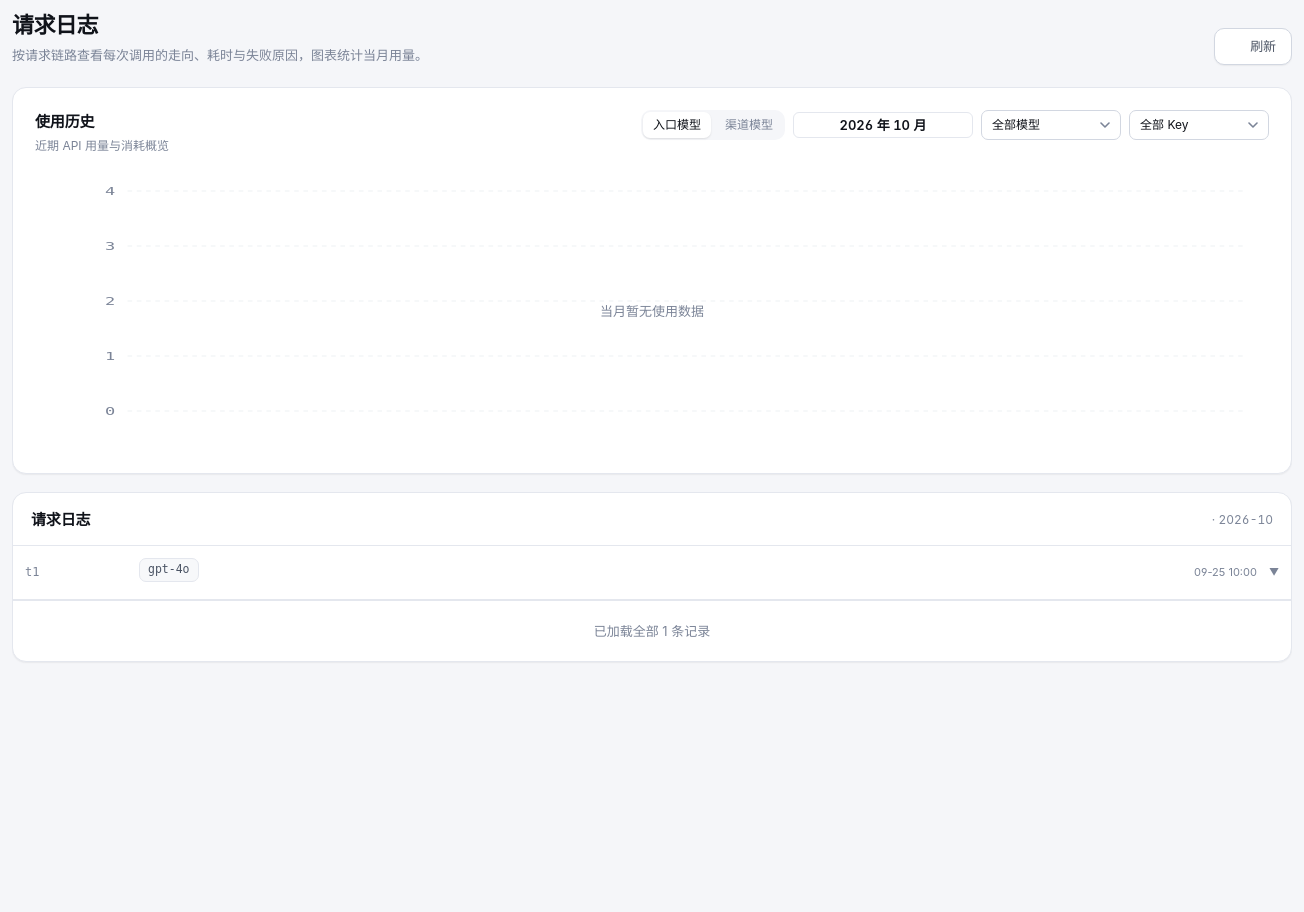
Test: 请求日志页 - 性能重构回归 › 粘性命中的成员在日志行显示「粘性」徽章，未标记的行不显示
Click the element with class "log-trace" at (652, 573), box [13,546,1291,600]
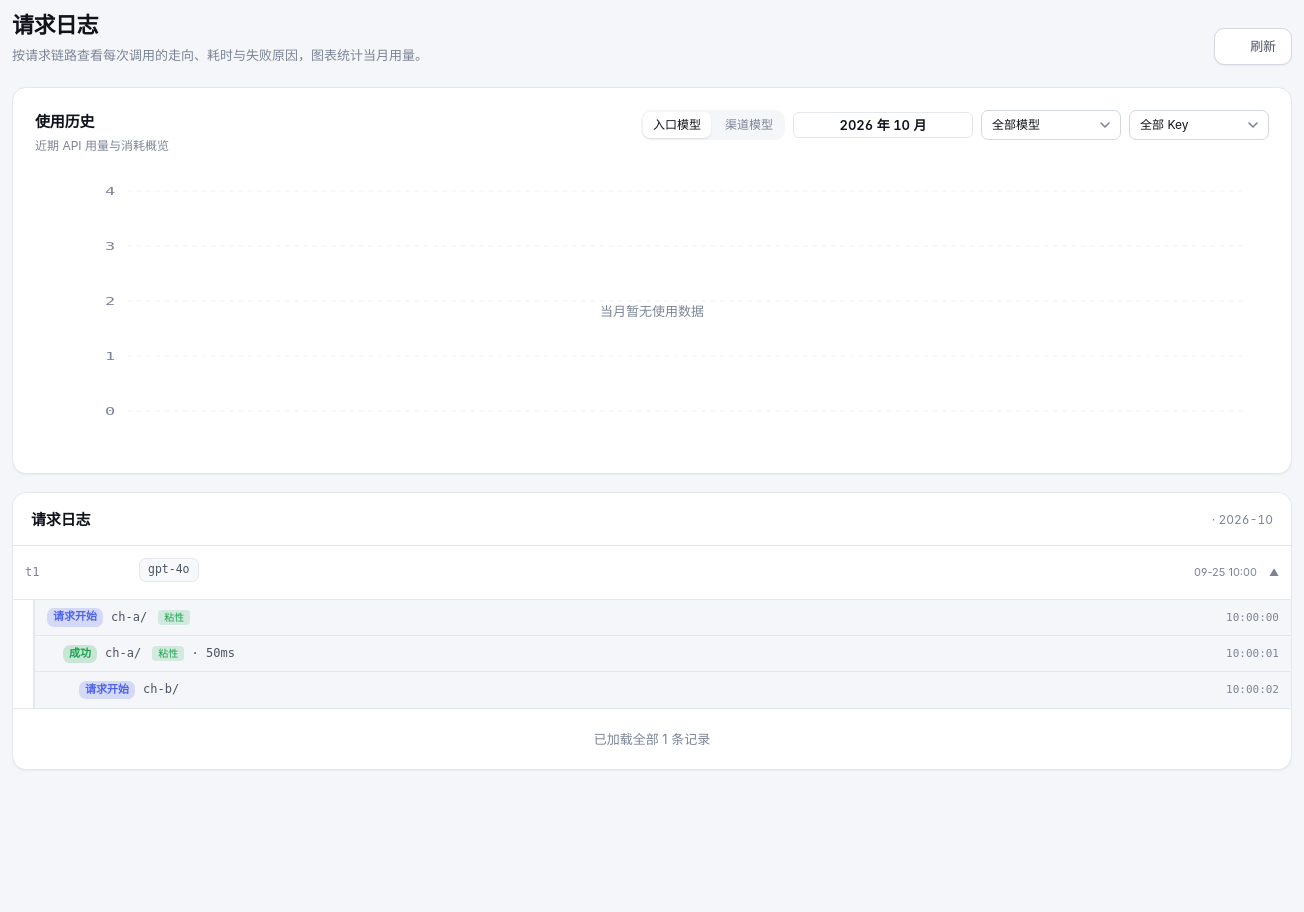
expect the number of elements with class "route-source-badge" is 2: met, box [158,610,190,625]; [152,646,184,661]
expect the text with class "route-source-badge" in the row of "10:00:00" reads "粘性": met, box [164,612,184,623]
expect the text with class "route-source-badge" next to "· 50ms" reads "粘性": met, box [158,648,178,659]
